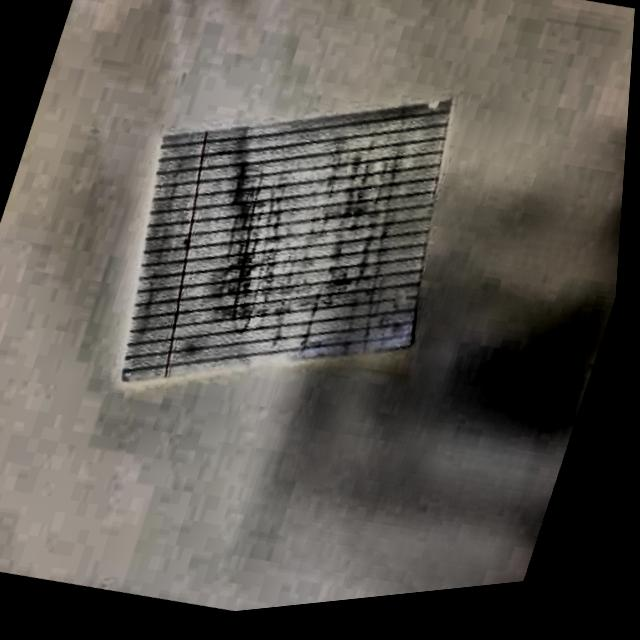Paper: (79, 25, 521, 473)
